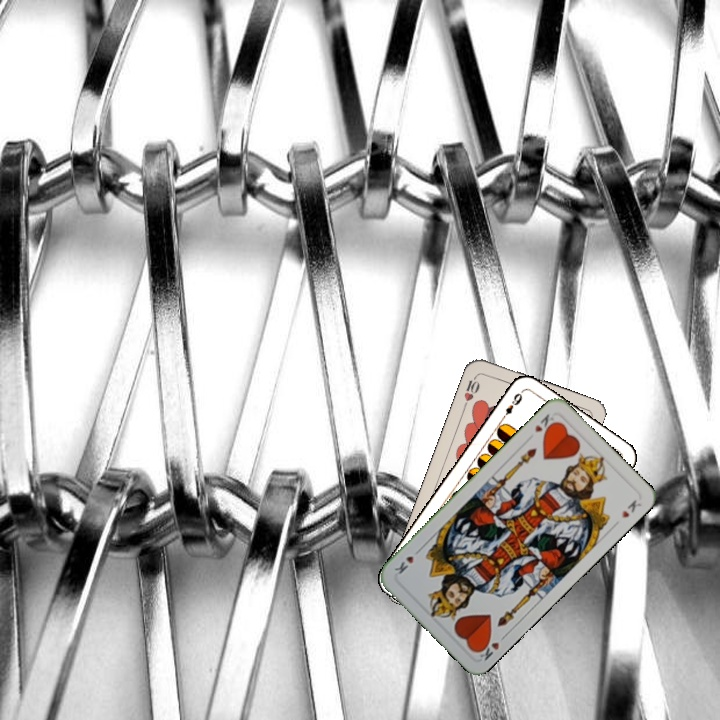E9: (497, 388, 525, 423)
H10: (460, 371, 482, 410)
HK: (473, 630, 509, 663), (530, 410, 560, 437)
